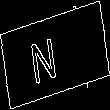N_N: (39, 26, 71, 84)
